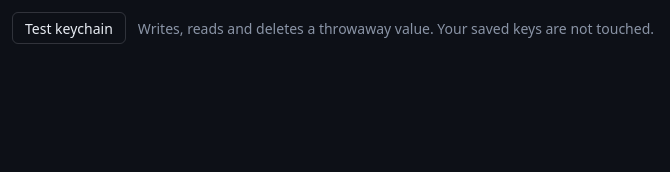
Test case: KeychainTest › shows the failure reason when no keychain is available
Click the button "Test keychain": (69, 28) [12,12,126,44]
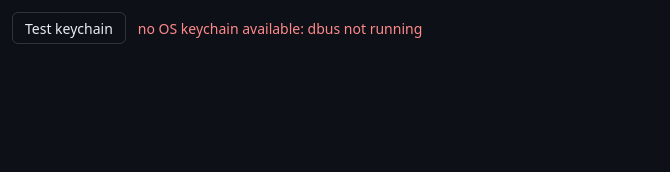
Now the message shows "no OS keychain available", box [138,18,422,38]
